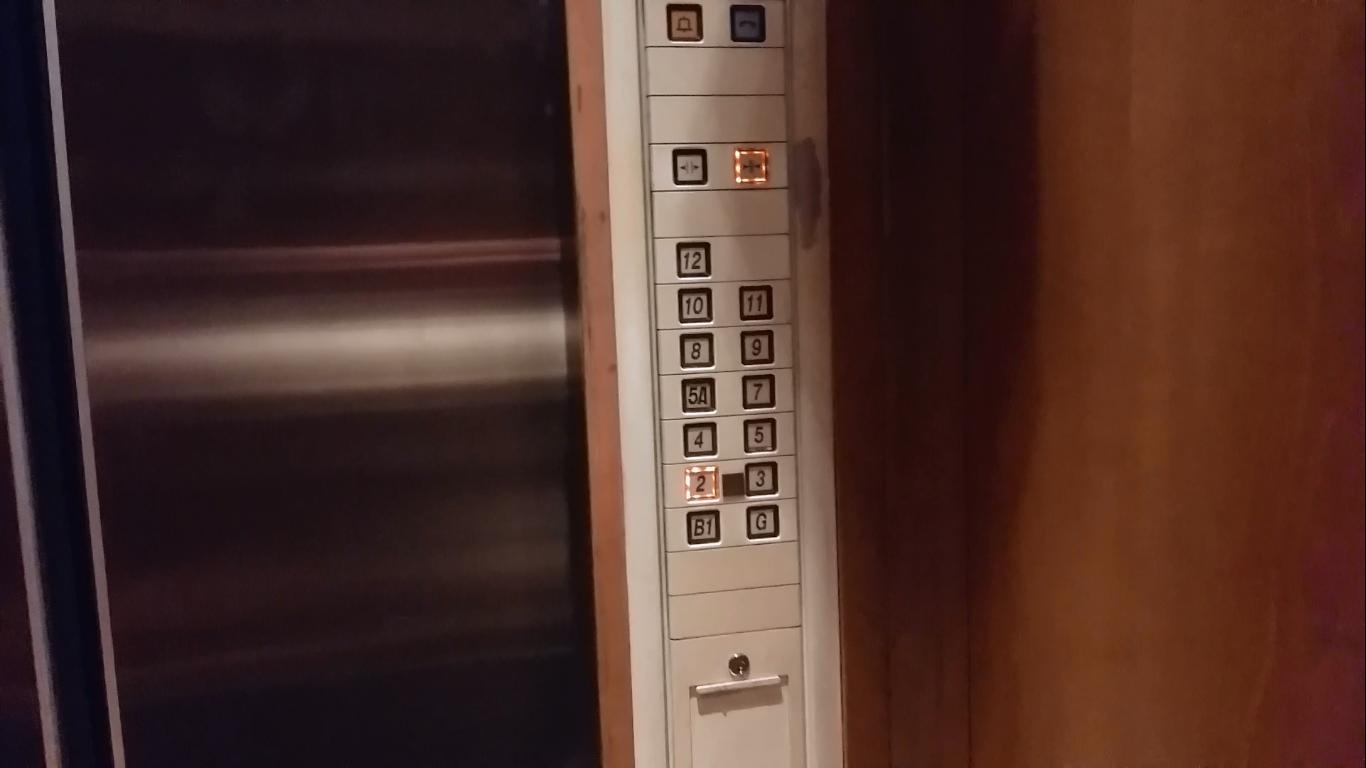10: (675, 286, 713, 326)
11: (736, 282, 774, 322)
12: (673, 240, 712, 280)
2: (682, 464, 719, 502)
3: (742, 460, 779, 498)
4: (680, 421, 717, 459)
5: (740, 416, 777, 454)
5A: (679, 376, 716, 414)
7: (739, 372, 776, 410)
8: (677, 331, 716, 370)
9: (737, 328, 776, 367)
B1: (684, 508, 721, 546)
G: (743, 503, 780, 541)
alarm: (664, 1, 706, 45)
call: (727, 2, 767, 43)
close: (732, 147, 769, 185)
keyhole: (724, 648, 755, 679)
open: (669, 146, 710, 187)
